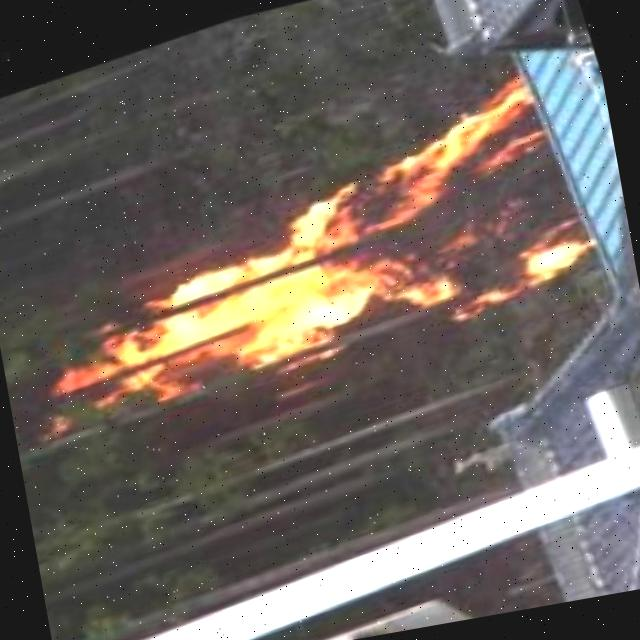fire: (20, 57, 615, 436)
